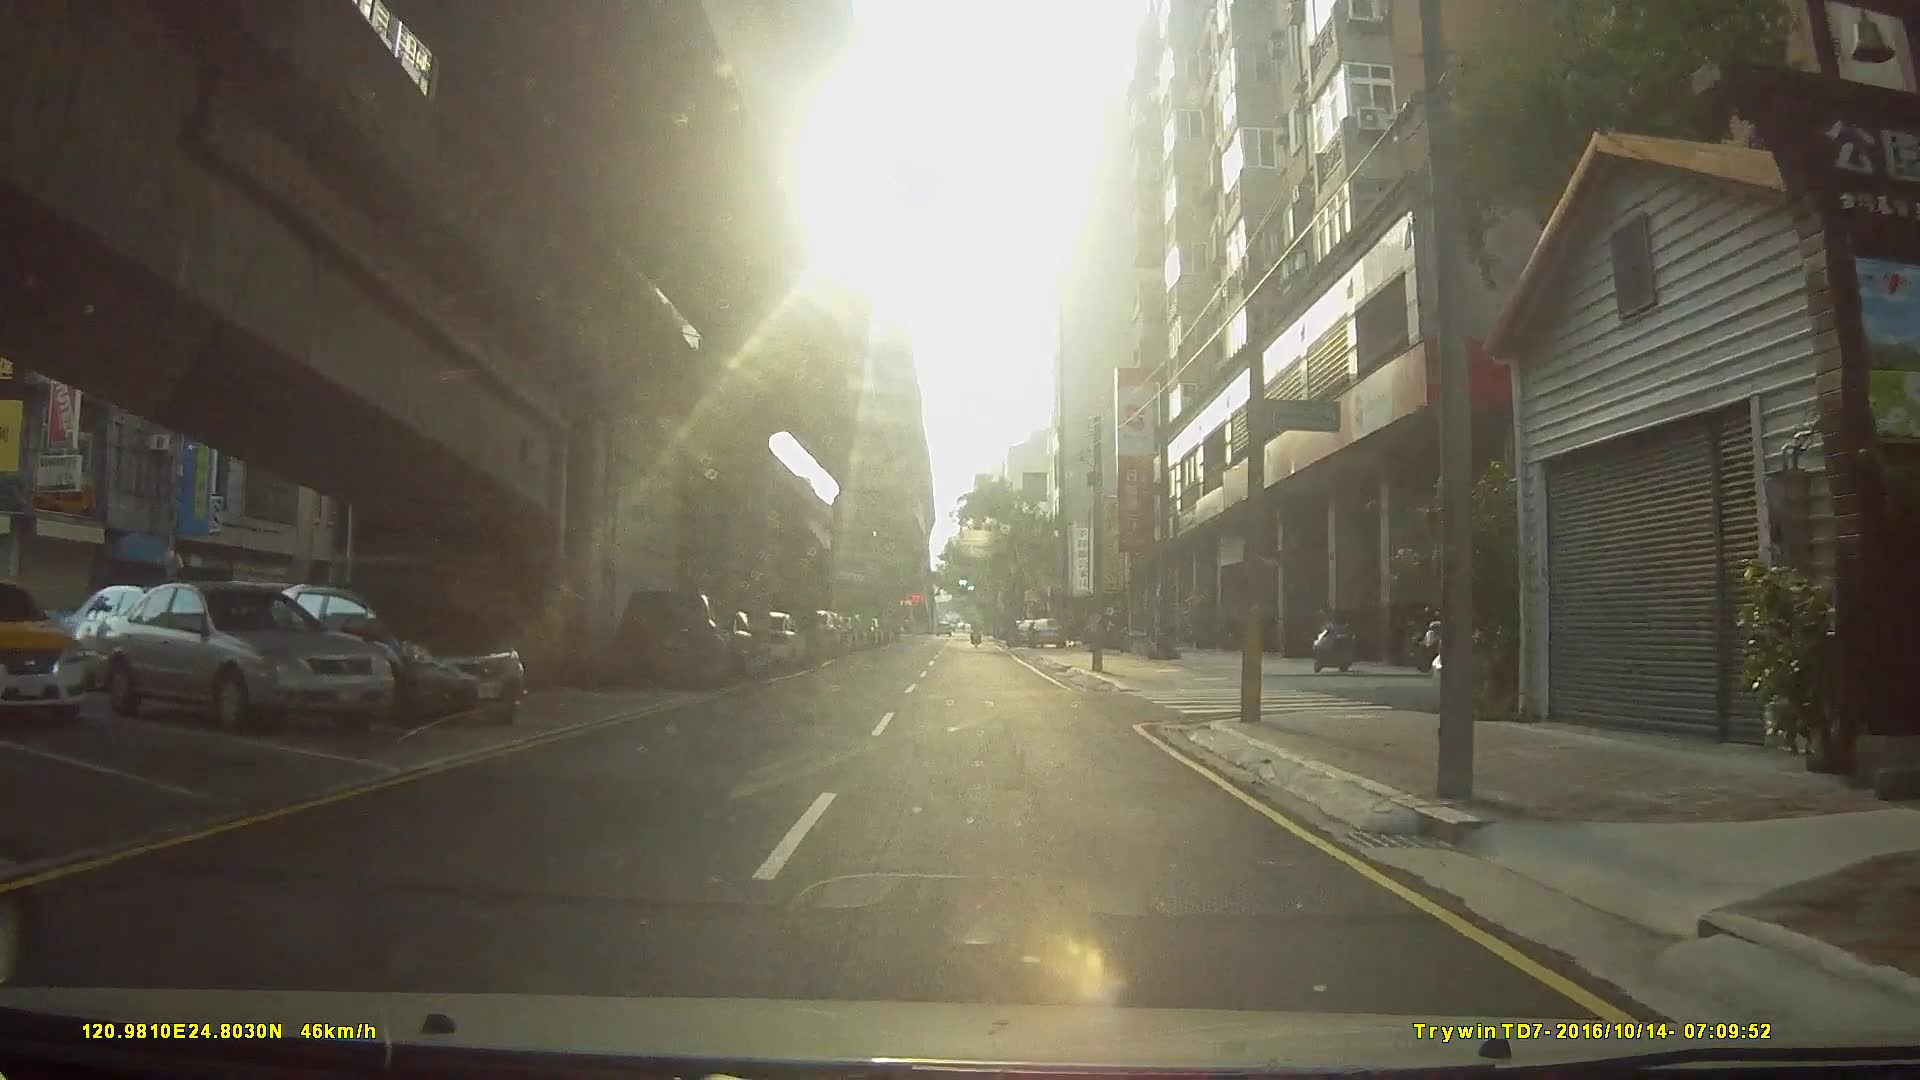vehicle: (91, 584, 392, 737), (273, 582, 531, 728), (0, 575, 90, 724), (609, 589, 737, 692), (1029, 617, 1065, 651)
